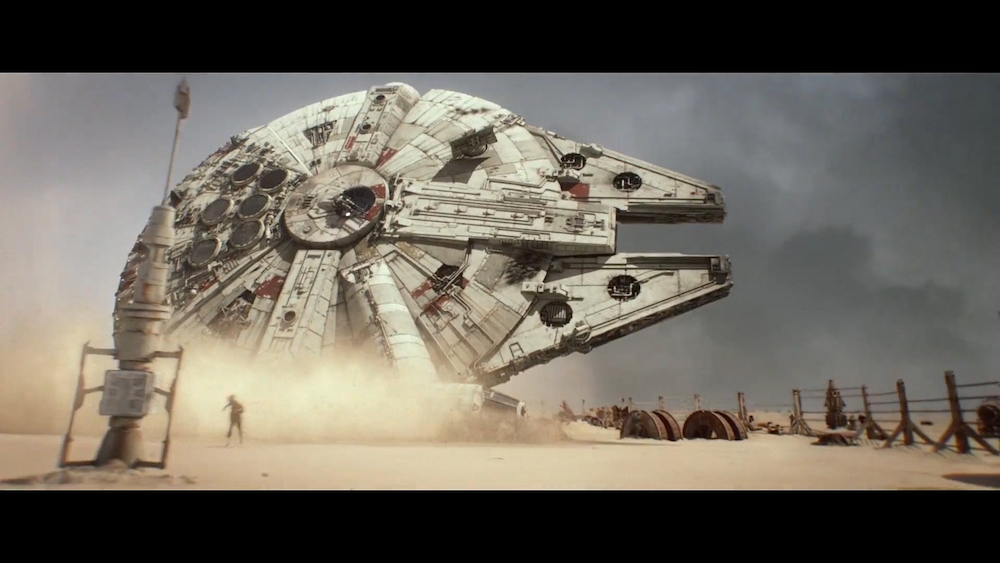Millennium Falcon: (113, 83, 733, 443)
